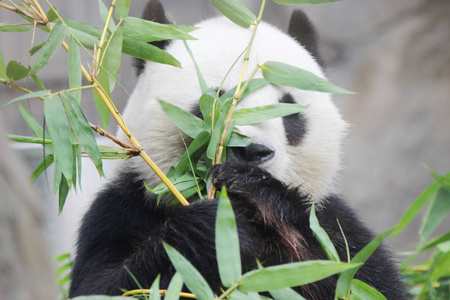panda: (71, 17, 424, 289)
